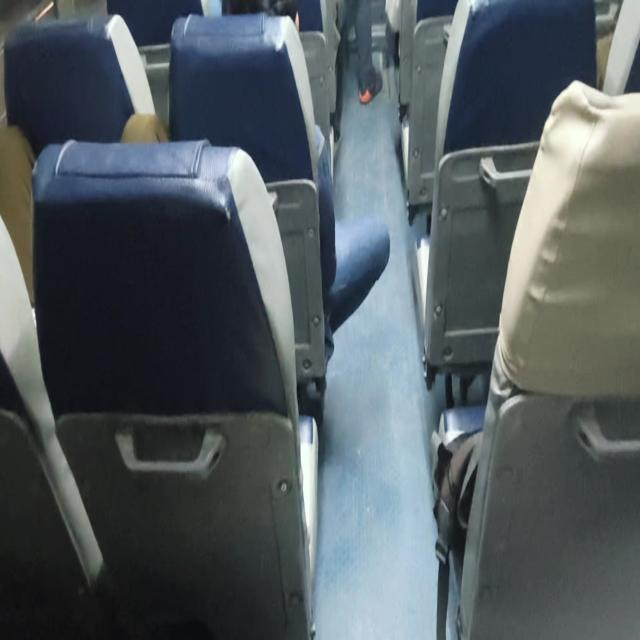person: (120, 7, 390, 417), (452, 78, 639, 636), (332, 0, 383, 141), (0, 122, 37, 306)
